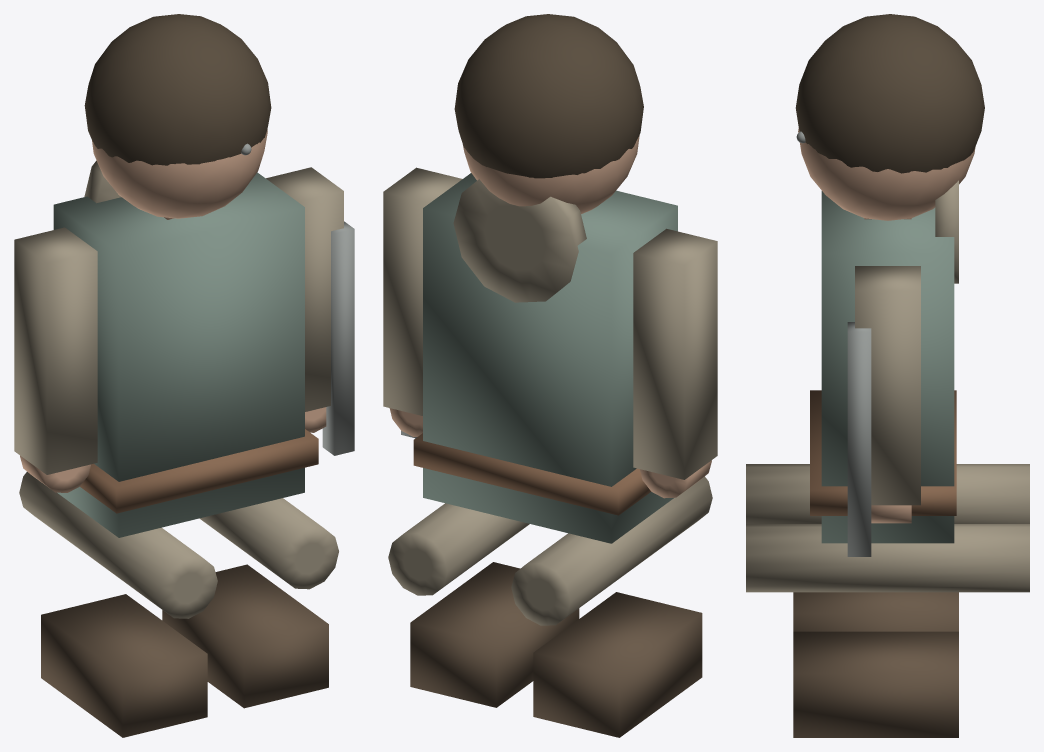
Rendered from character.glb.
3 views of the same model, side by side, from view 1: azimuth 30°, elevation 25°; view 2: azimuth 150°, elevation 25°; view 3: azimuth 270°, elevation 25° (orthographic).
Parts seen in each view (by area): view 1: Body, Hair, Arm_L, Boot_L, Boot_R, Leg_L, Arm_R, Head, Belt, Leg_R, Tool, Hand_L (+1 smaller); view 2: Body, Hair, Arm_L, Boot_L, Boot_R, Cloak, Leg_L, Arm_R, Leg_R, Belt, Head, Hand_L (+1 smaller); view 3: Hair, Body, Boot_R, Leg_R, Arm_R, Leg_L, Head, Boot_L, Tool, Belt, Cloak, Hand_R.
Part boxes in pixels (x1,y1,x2,y2): Body: (53, 172, 304, 537); Hair: (84, 14, 271, 165); Arm_L: (14, 227, 97, 474); Boot_L: (41, 594, 207, 737); Boot_R: (162, 564, 328, 708); Leg_L: (19, 472, 217, 618); Arm_R: (266, 167, 343, 411); Head: (92, 129, 267, 218); Belt: (80, 429, 318, 513); Leg_R: (199, 498, 338, 589); Tool: (322, 221, 354, 455); Hand_L: (20, 455, 90, 492); Body: (423, 173, 677, 543); Hair: (454, 14, 643, 178); Arm_L: (633, 228, 717, 479); Boot_L: (533, 592, 702, 737); Boot_R: (410, 562, 579, 707); Cloak: (453, 179, 586, 302); Leg_L: (511, 476, 712, 625); Arm_R: (383, 167, 462, 415); Leg_R: (388, 503, 529, 595); Belt: (413, 433, 651, 515); Head: (463, 135, 639, 214); Hand_L: (640, 460, 711, 498); Hair: (795, 14, 984, 173); Body: (821, 191, 954, 543); Boot_R: (793, 631, 958, 737); Leg_R: (746, 524, 1029, 592); Arm_R: (855, 266, 920, 505); Leg_L: (746, 464, 1029, 523); Head: (798, 128, 975, 220); Boot_L: (793, 592, 958, 631); Tool: (847, 322, 871, 556); Belt: (810, 390, 956, 515); Cloak: (935, 180, 958, 283); Hand_R: (871, 505, 911, 523).
Size of the model in its own units: 1.5 by 3.1 by 1.2.
